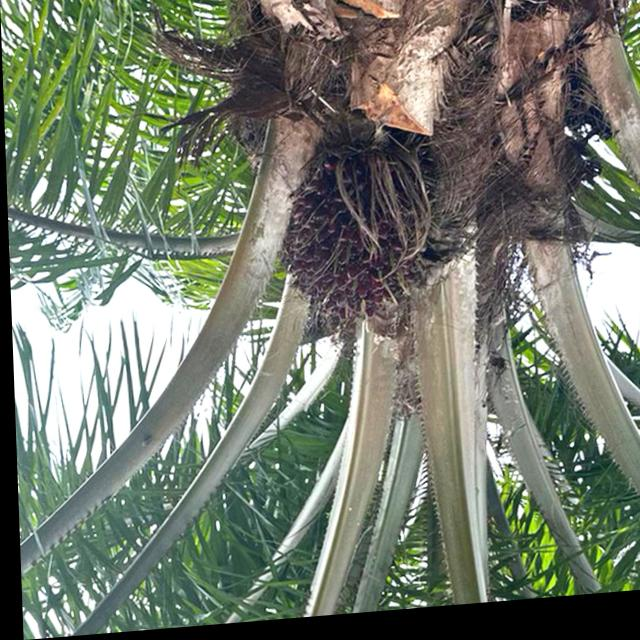ripe: (270, 157, 441, 334)
